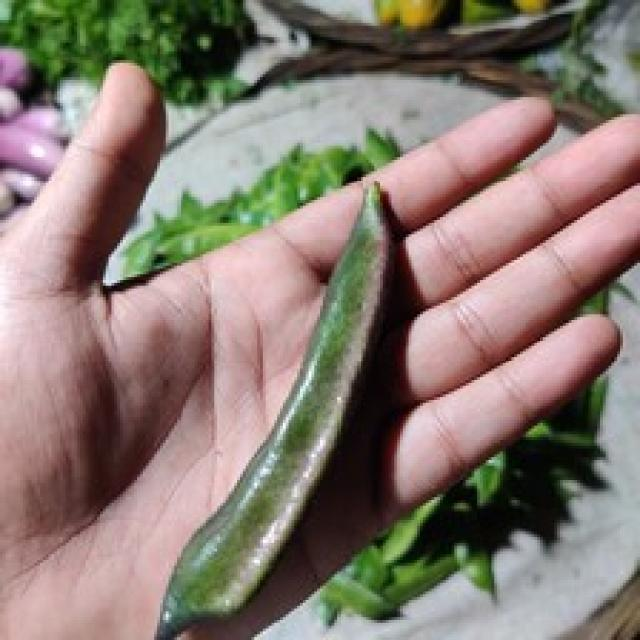Bean: (152, 177, 394, 637)
